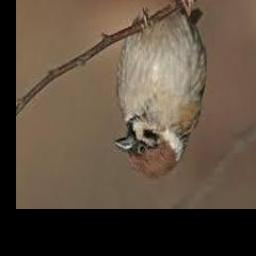Sparrow: (113, 0, 206, 180)
